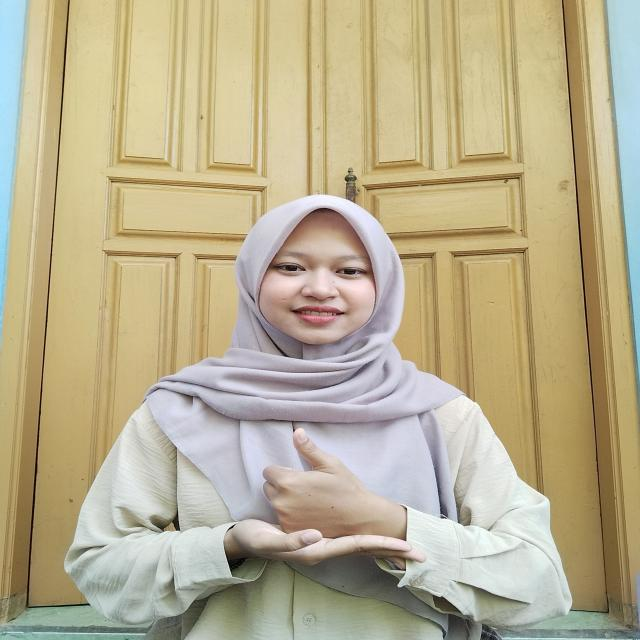cantik: (184, 416, 462, 596)
